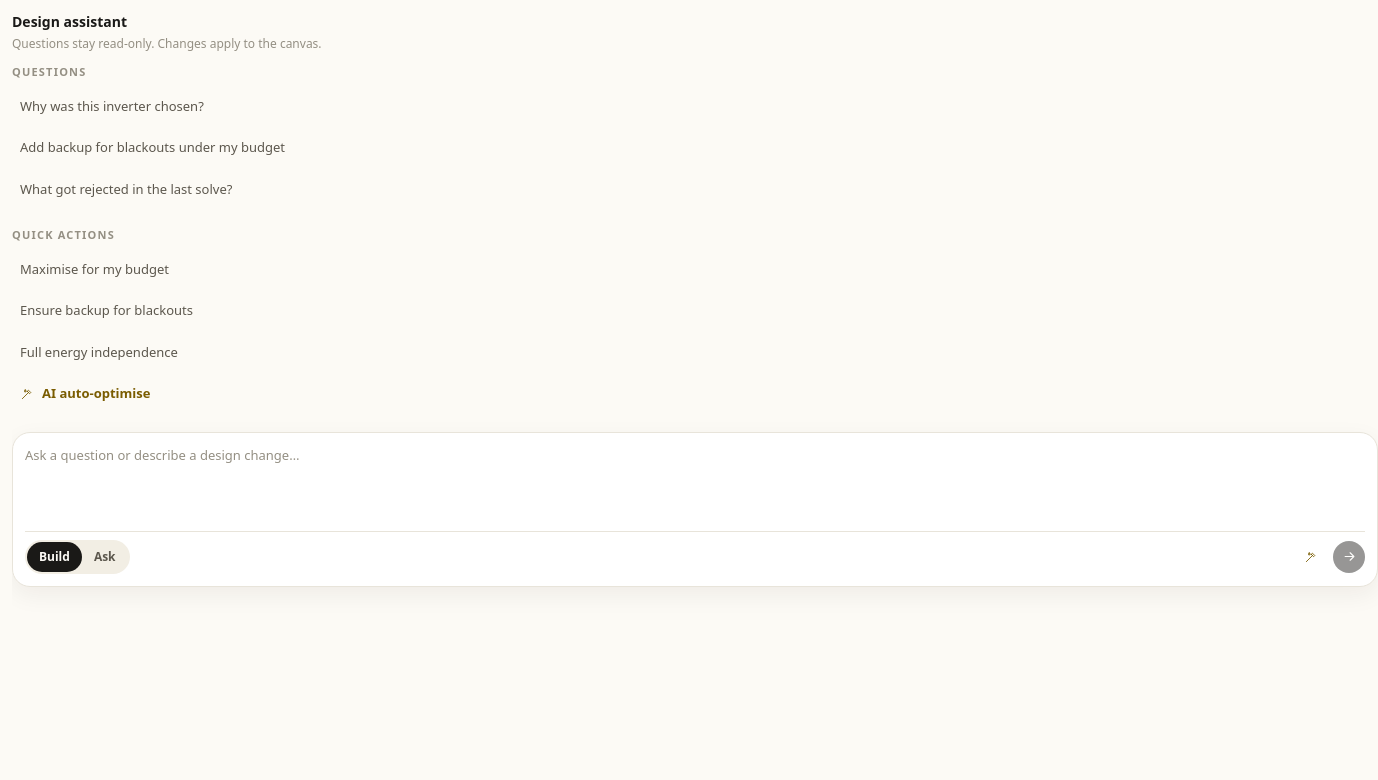
DesignChat › shows a confirmation card for change requests in ask mode
Click the tab "Ask": (105, 556) [82,542,128,572]
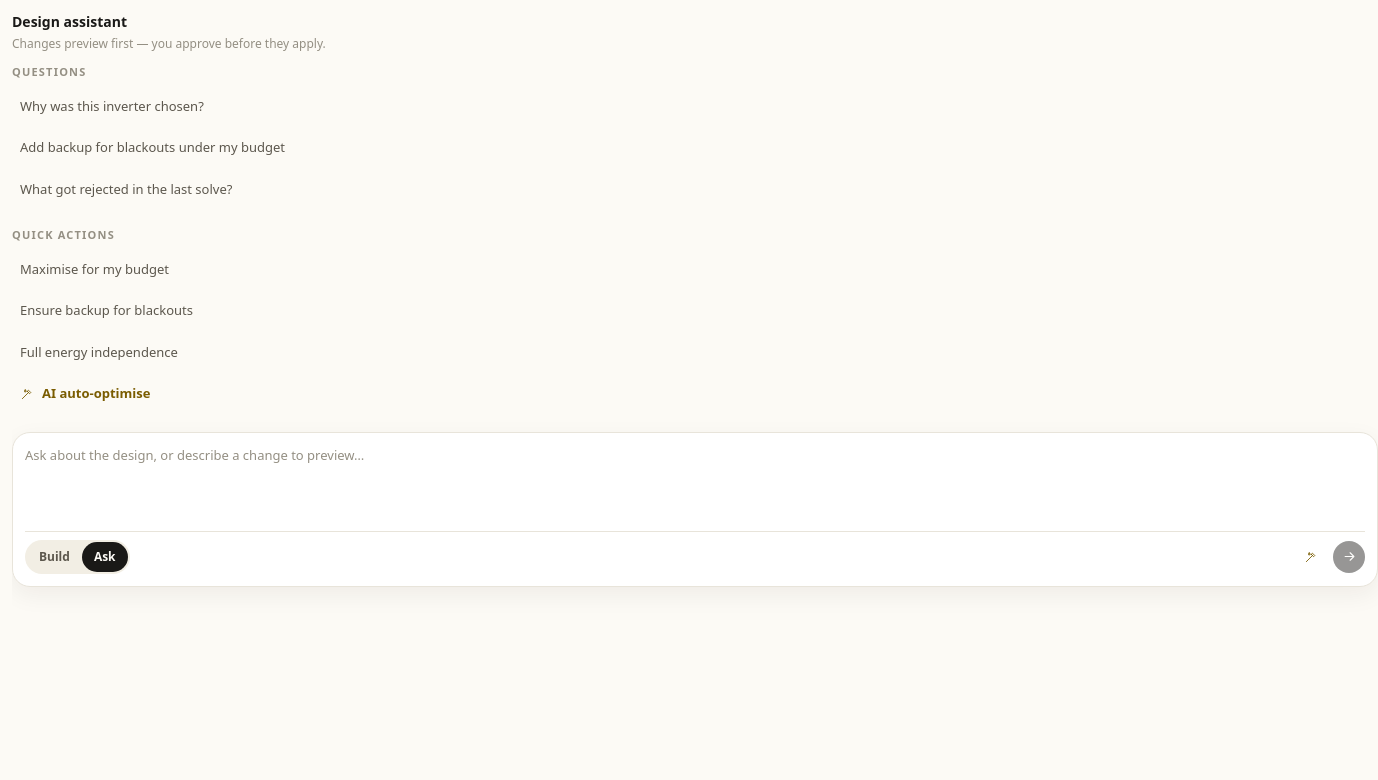
In the text box named "Design assistant message": (695, 480) [25,444,1365,516], type "Add two more panels"
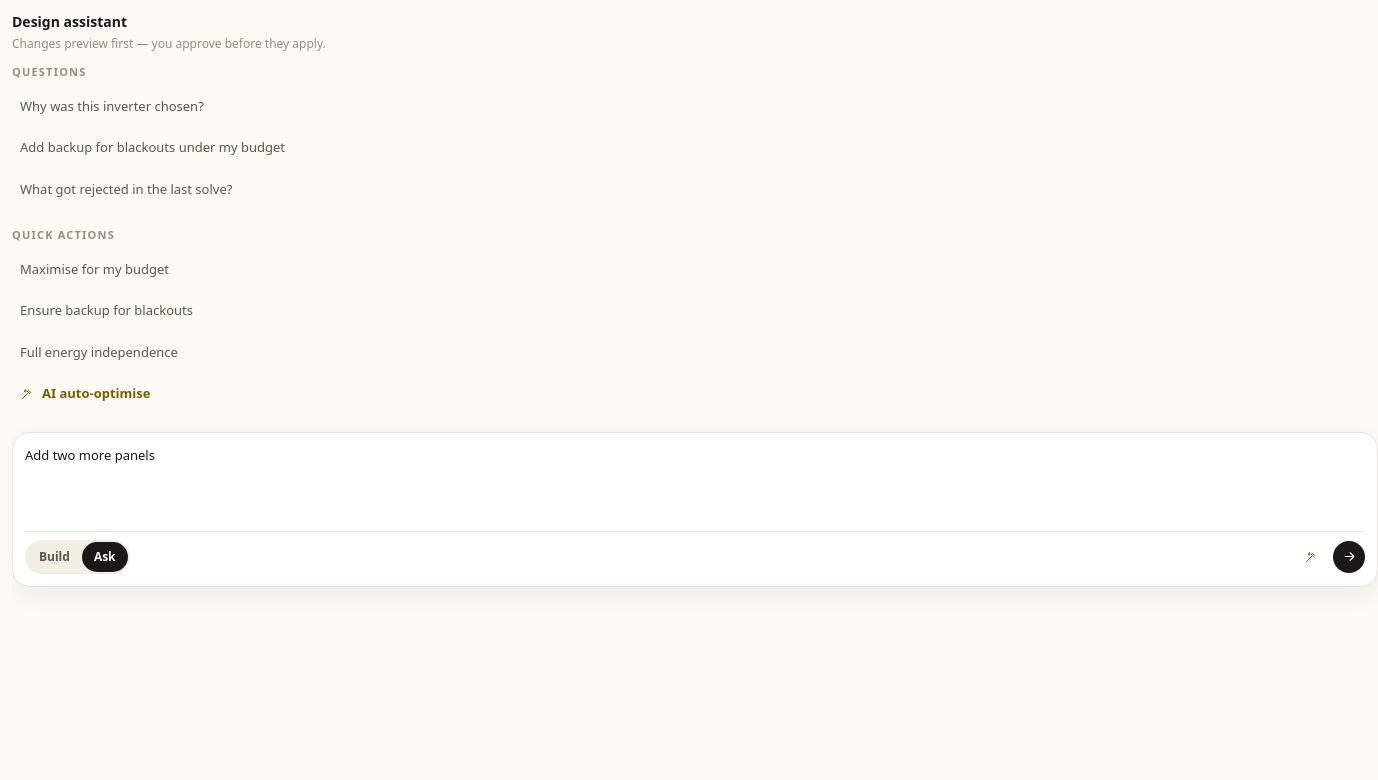
Click the button named "Send message": (1349, 556) [1333,540,1365,572]
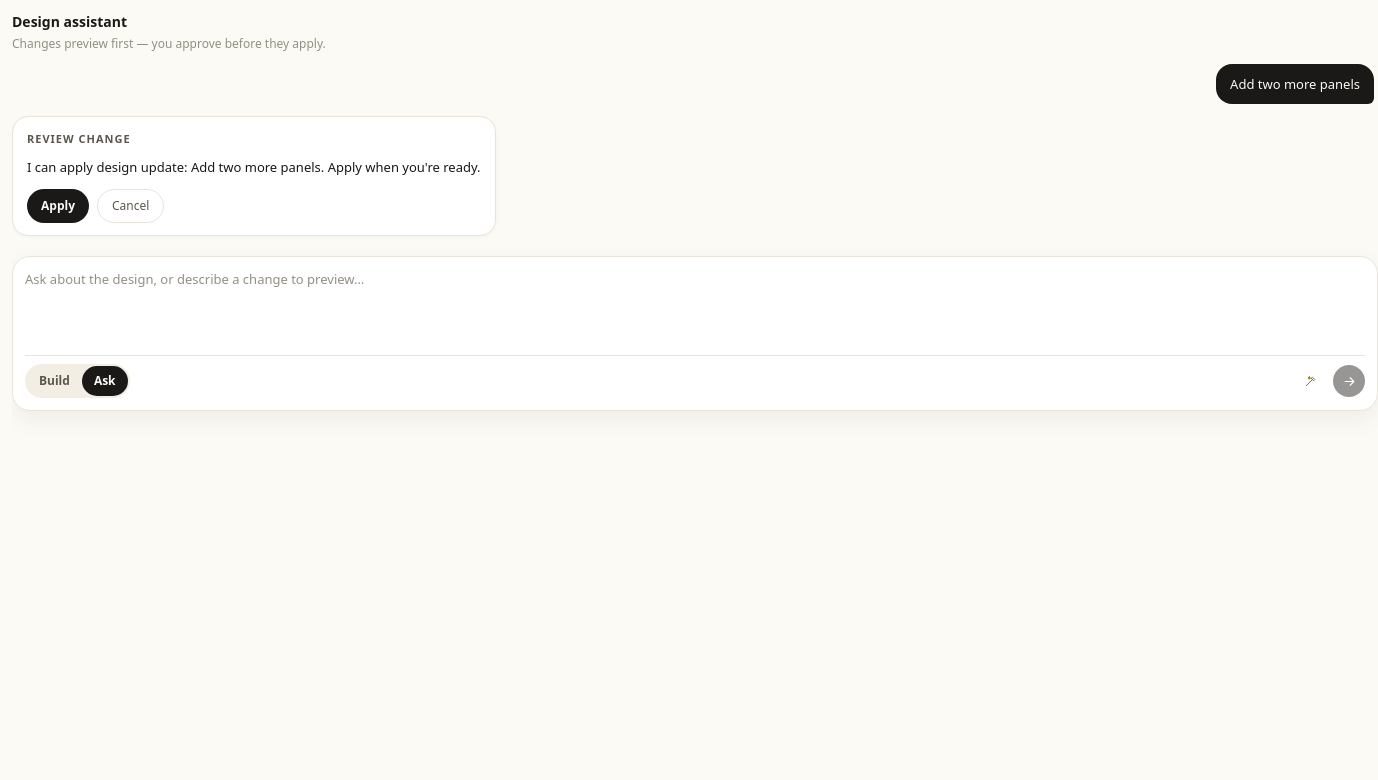
expect the button "Apply" is shown: met, box [27,189,89,223]
